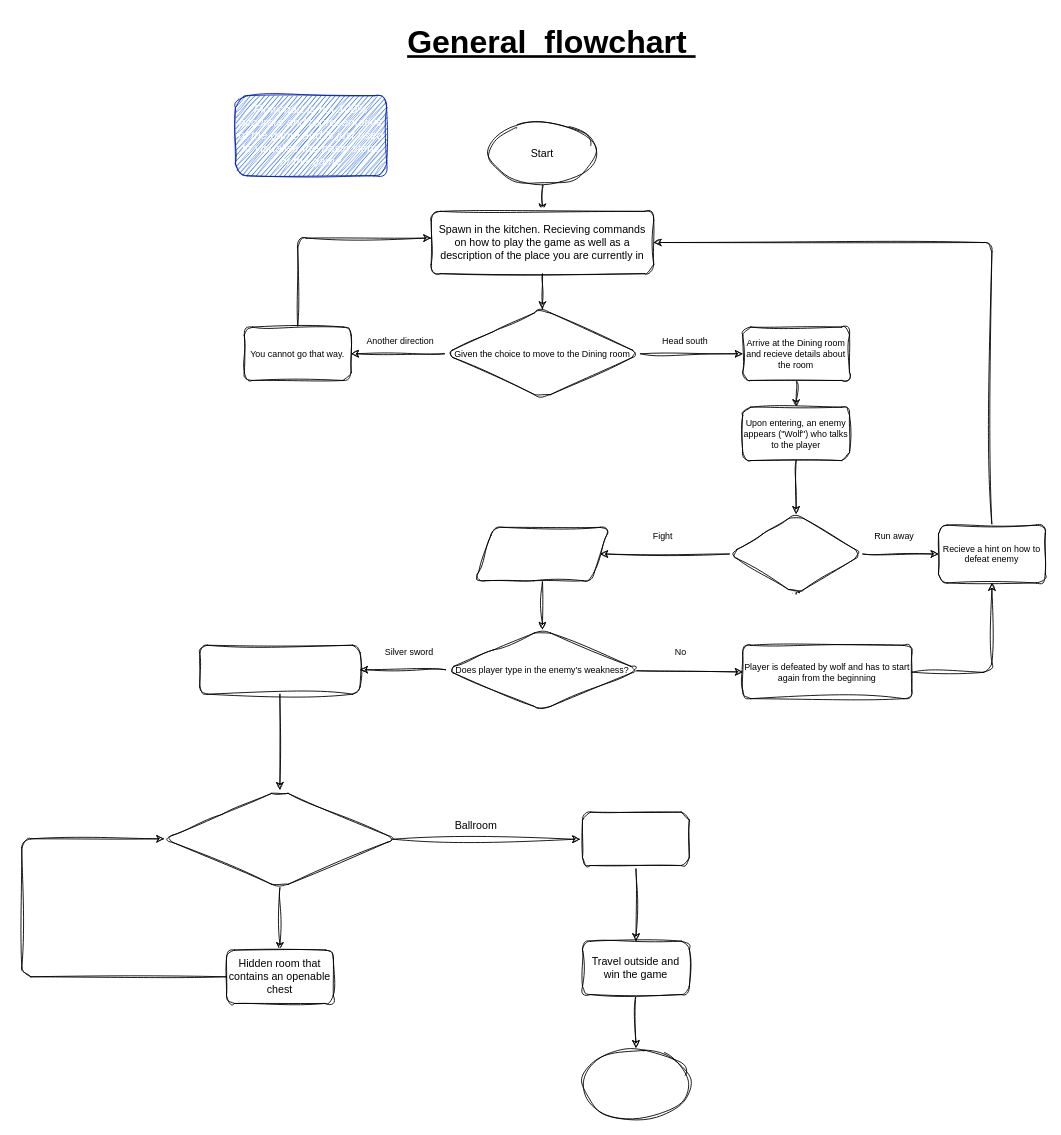
Image size: 1061x1135. Some labels were removed from this diagram. The shapes that lost their labels are listed below. From the top down, each one's box as (x1, y1, x2, y2) in pixels, then its label:
(475, 526, 609, 581): Asks the user to input their weapon of choice?
(728, 513, 863, 594): How to interact with enemy
(199, 644, 360, 694): Player has defeated the wolf and is now free to move about
(163, 789, 396, 888): What room does player want to travel to?
(582, 811, 689, 866): Player congratulated by friendly NPC
(582, 1047, 689, 1119): End
